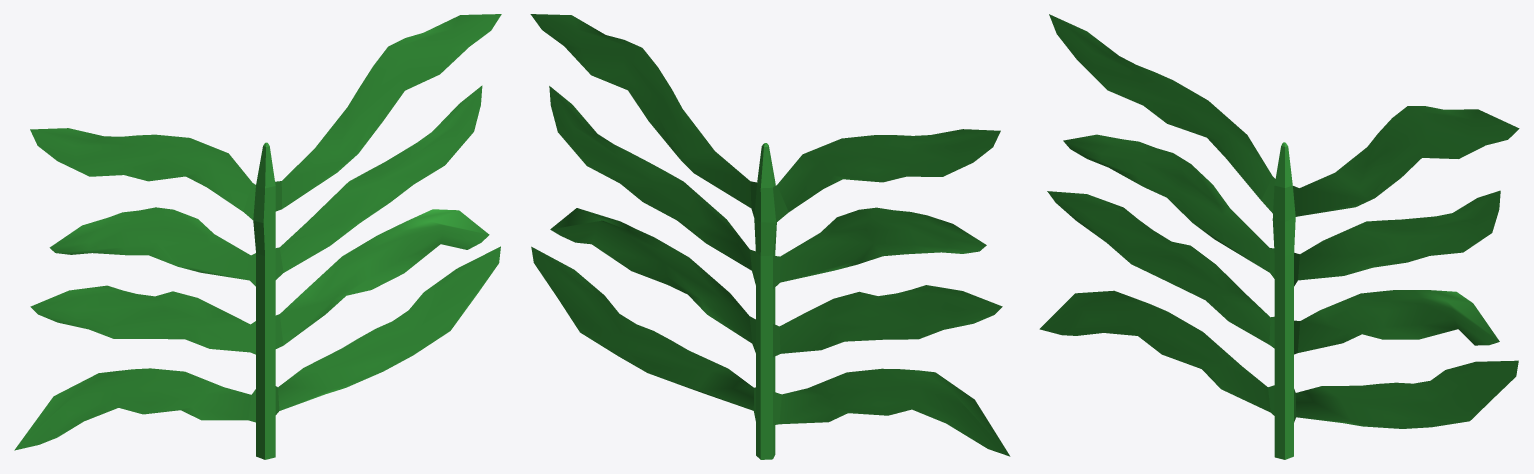
Rendered from seaweed.fbx.
3 views of the same model, side by side, from view 1: azimuth 30°, elevation 25°; view 2: azimuth 150°, elevation 25°; view 3: azimuth 330°, elevation 25° (orthographic).
Visible parts, largest first — view 1: Seaweed Stalk; view 2: Seaweed Stalk; view 3: Seaweed Stalk.
Boxes of the visible parts, box(x1,y1,x2,y2) form: Seaweed Stalk: box(14, 14, 501, 459); Seaweed Stalk: box(530, 14, 1010, 459); Seaweed Stalk: box(1039, 14, 1519, 459).
Size of the model in its own units: 472 by 367 by 17.85.
